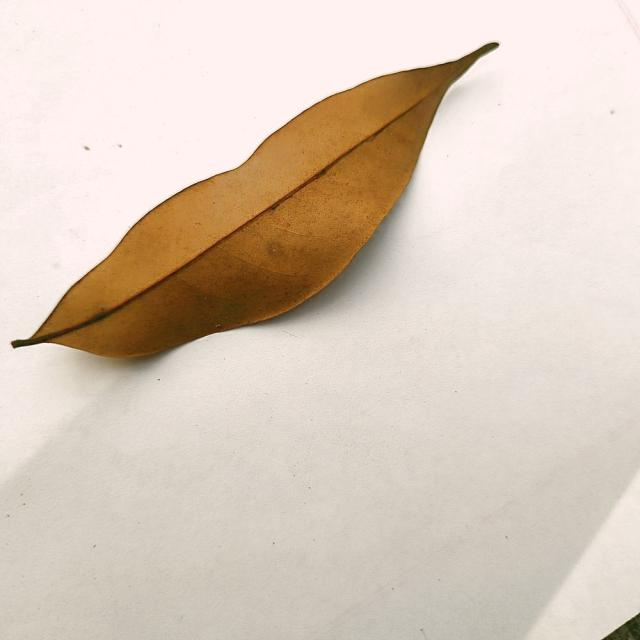Dry_Leaf-Lychee: (16, 44, 499, 363)
